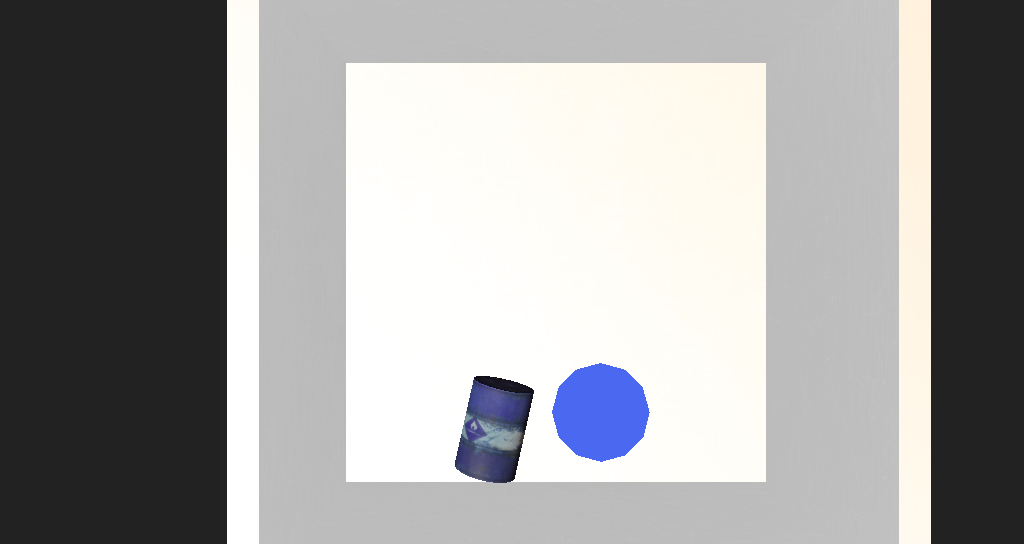cone: (435, 322, 495, 375)
cylinder: (502, 310, 563, 358)
sphere: (630, 394, 717, 456)
